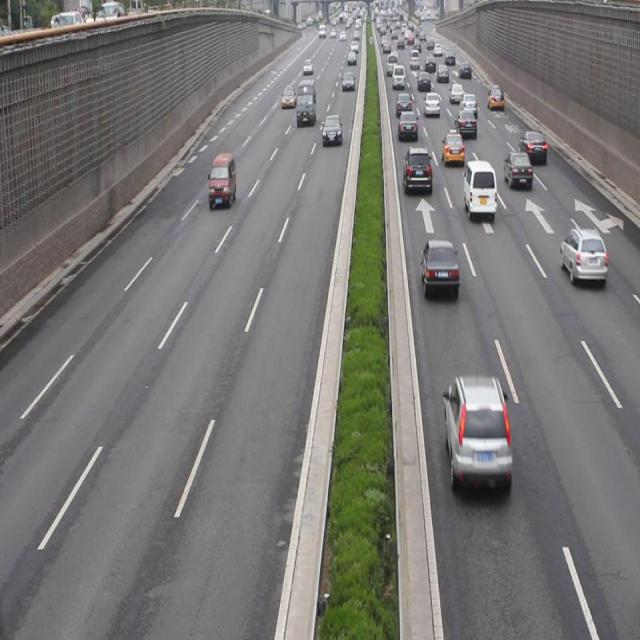car: (442, 374, 510, 496), (558, 225, 606, 287), (420, 239, 457, 300), (402, 145, 432, 193), (502, 152, 531, 190), (517, 129, 546, 166), (441, 131, 463, 165), (320, 116, 340, 145), (454, 108, 474, 136), (398, 110, 416, 138)
truck: (462, 157, 497, 222), (208, 152, 235, 206)
